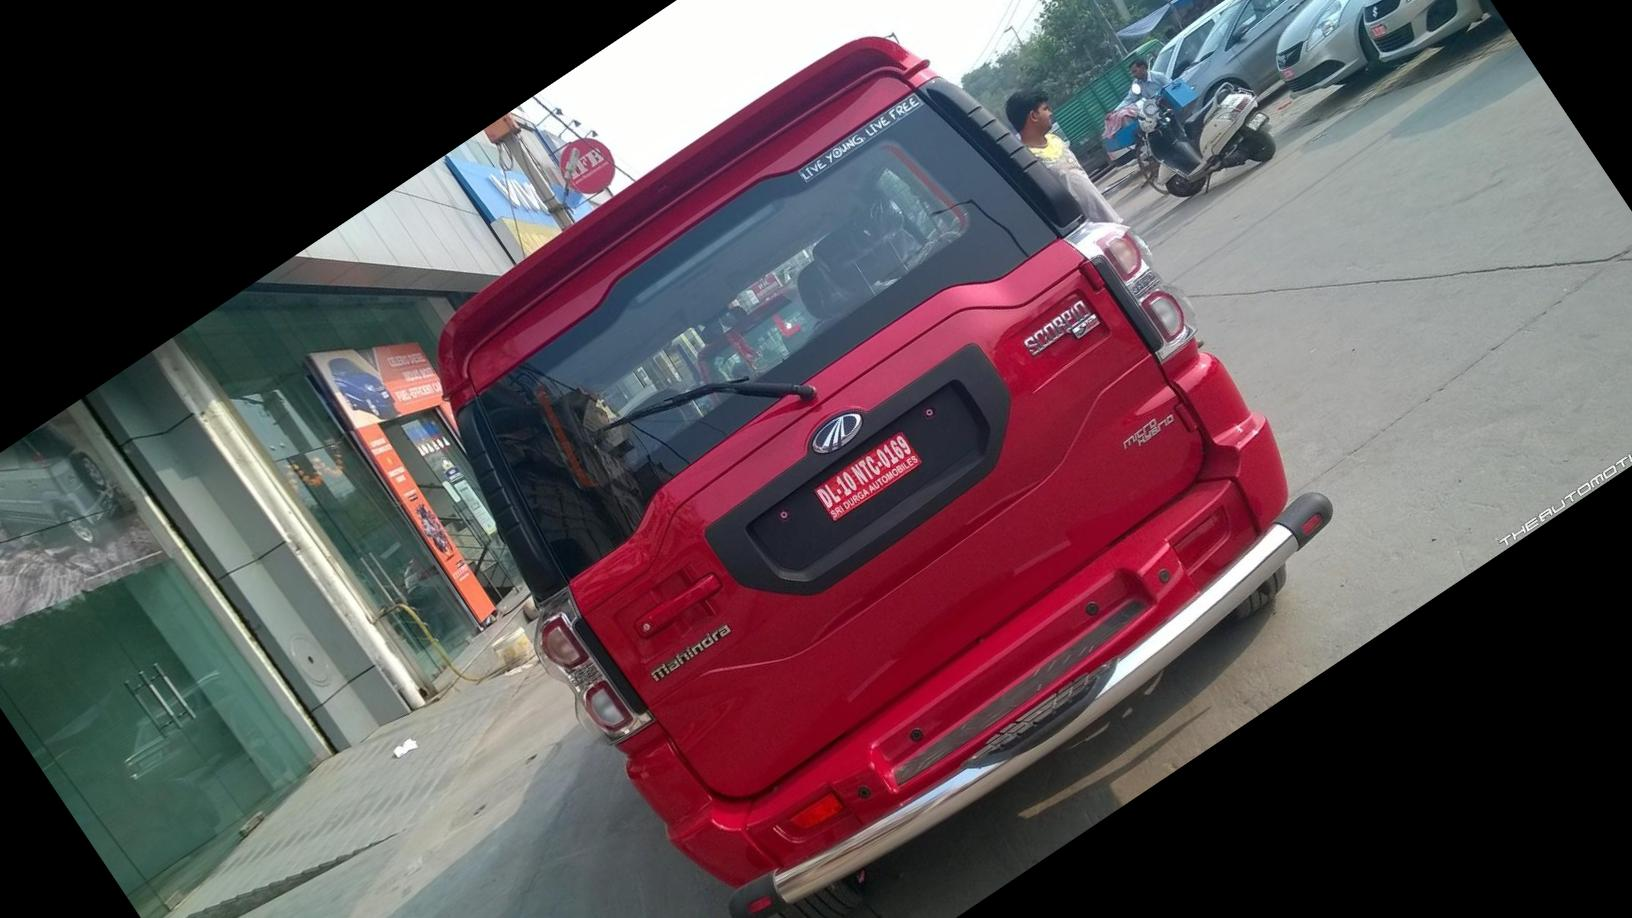plate: (812, 427, 931, 525)
